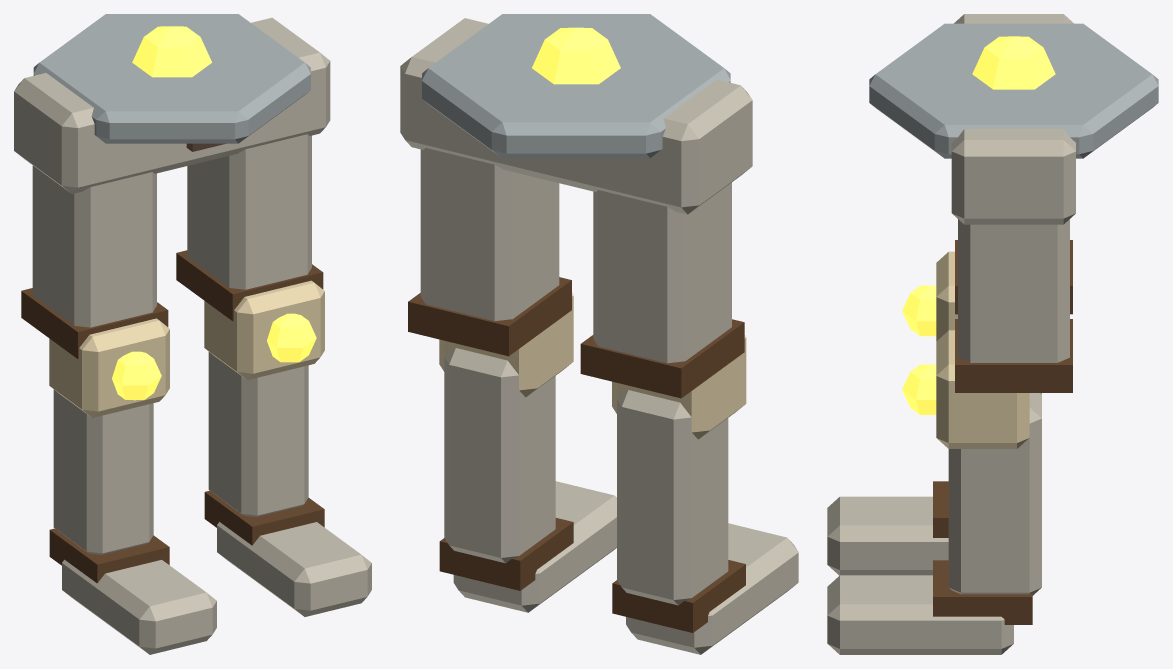
Rendered from legs_light.glb.
The picture shows the model from 3 angles, left to right: view 1: azimuth 30°, elevation 25°; view 2: azimuth 150°, elevation 25°; view 3: azimuth 270°, elevation 25°; orthographic projection. The views are drawn at different scales.
Parts seen in each view (by area): view 1: legs_light; view 2: legs_light; view 3: legs_light.
Part boxes in pixels (bbox=[...]): legs_light: bbox=[14, 14, 371, 654]; legs_light: bbox=[400, 14, 798, 654]; legs_light: bbox=[827, 14, 1158, 654].
Bounding box in the file's own units: 0.52 × 1 × 0.5325.
1 material, 1 textured.
